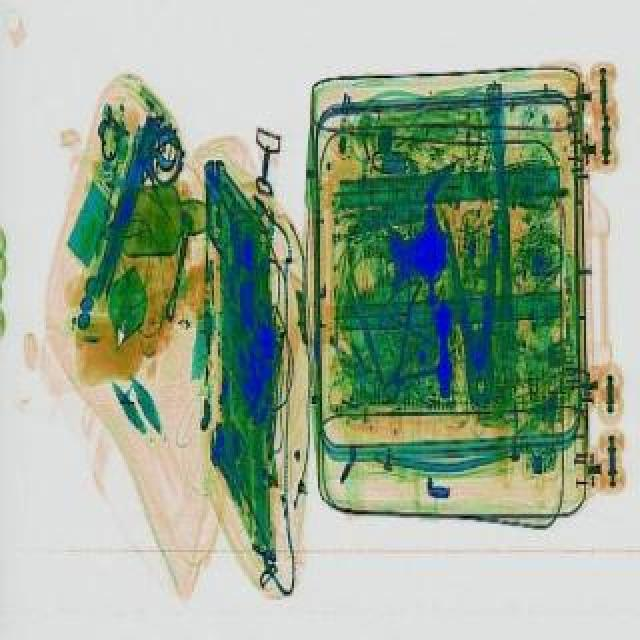wrench: (358, 284, 478, 416), (446, 222, 506, 410)
